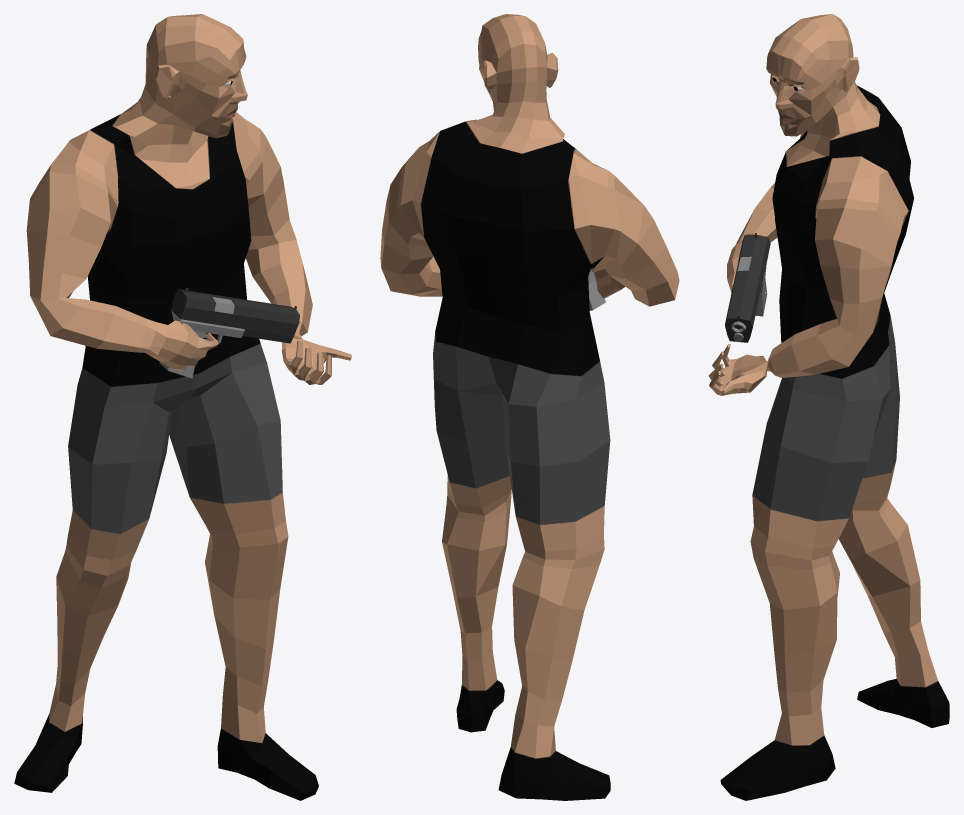
File: PlayerIdle(124).obj
3 renders of one model, left to right at view 1: azimuth 30°, elevation 25°; view 2: azimuth 150°, elevation 25°; view 3: azimuth 270°, elevation 25°, orthographic. The views are drawn at different scales.
Parts seen in each view (by area): view 1: Plane002, Box003; view 2: Plane002; view 3: Plane002, Box003.
Boxes of the visible parts, x1,y1,x2,y2 form: Plane002: [14, 14, 351, 800]; Box003: [159, 288, 300, 378]; Plane002: [380, 14, 679, 800]; Plane002: [708, 14, 949, 800]; Box003: [725, 233, 770, 342].
Bounding box in the file's own units: 698 × 1799 × 531.
